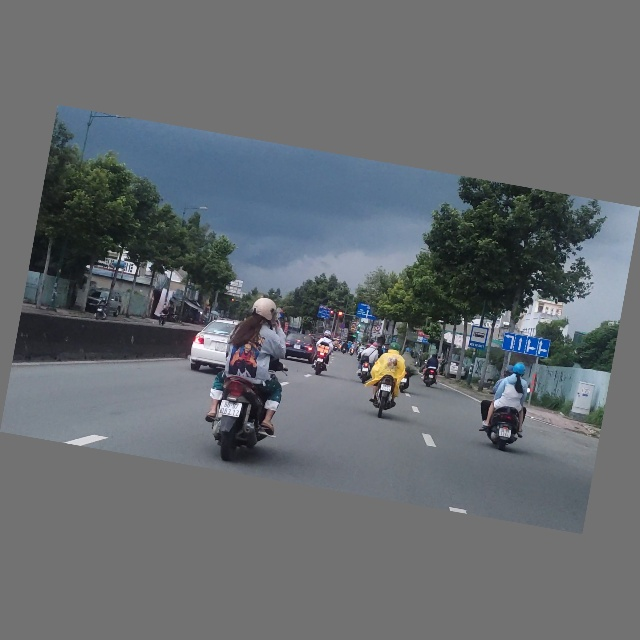I.434a: (469, 326, 489, 350)
P.137: (374, 325, 381, 332)
